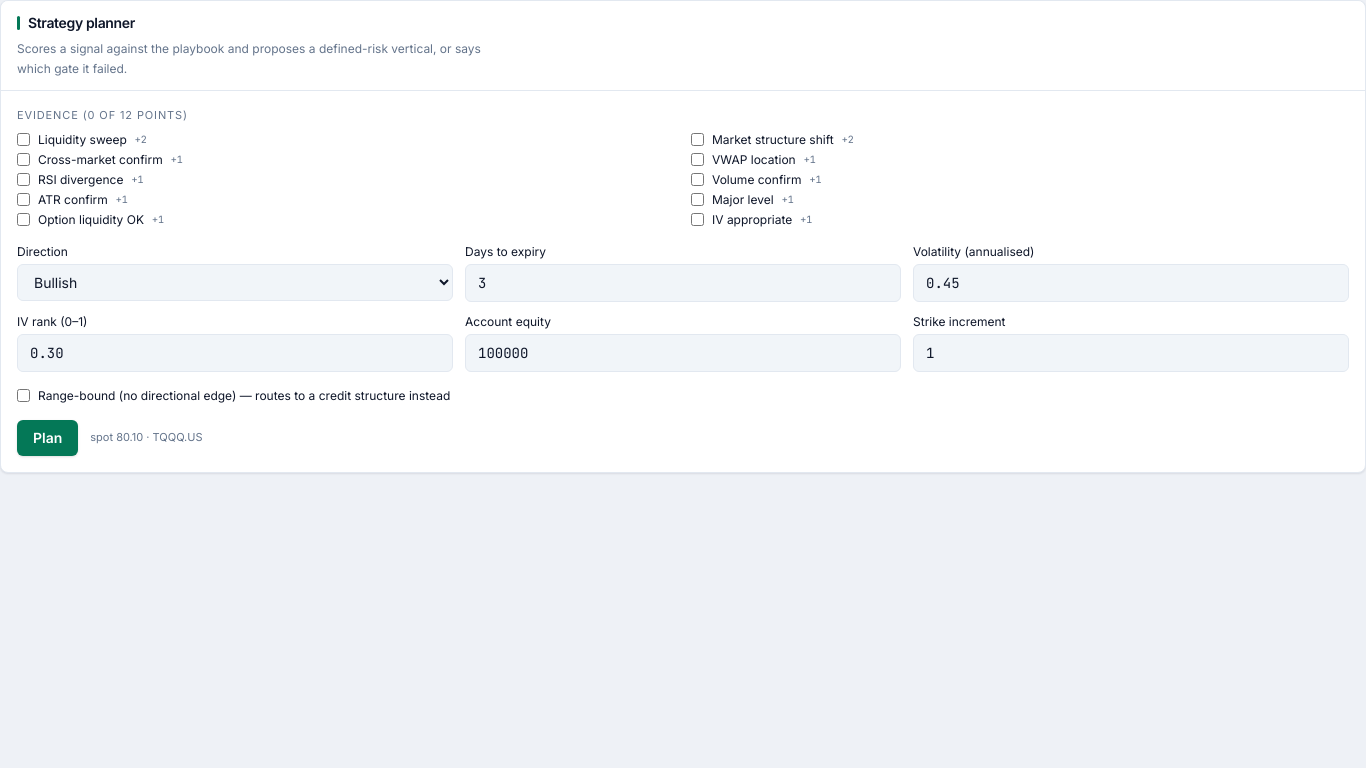
OptionPlanner › renders a refusal as a result, not as an error
The image size is (1366, 768).
Step 1. Click the button "Plan" → x=48, y=438, box left=17, top=420, right=78, bottom=456
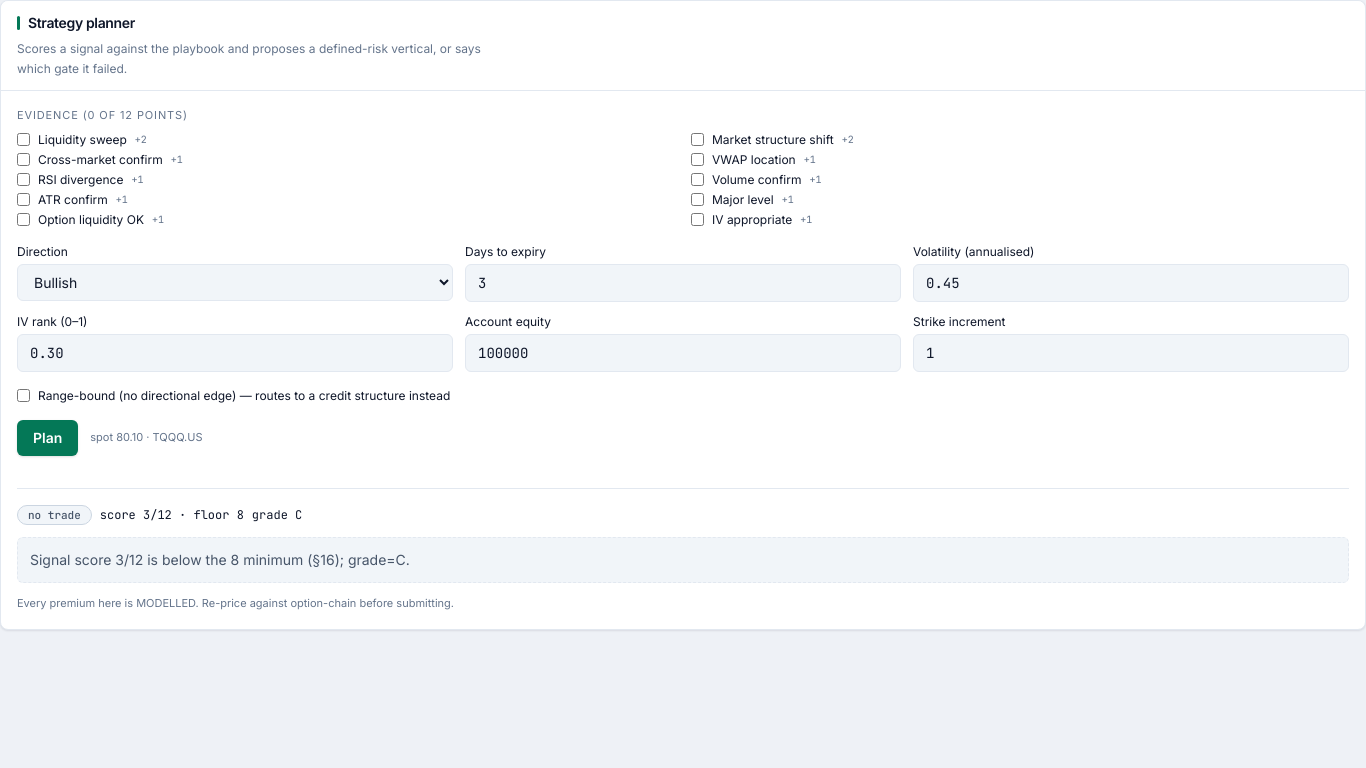
Expected: the text "no trade" is shown, left=17, top=504, right=92, bottom=525
Expected: the text "Signal score 3/12 is below the 8 minimum (§16); grade=C." is shown, left=17, top=537, right=1349, bottom=583
Expected: the text "score 3/12 · floor 8" is shown, left=100, top=507, right=244, bottom=523
